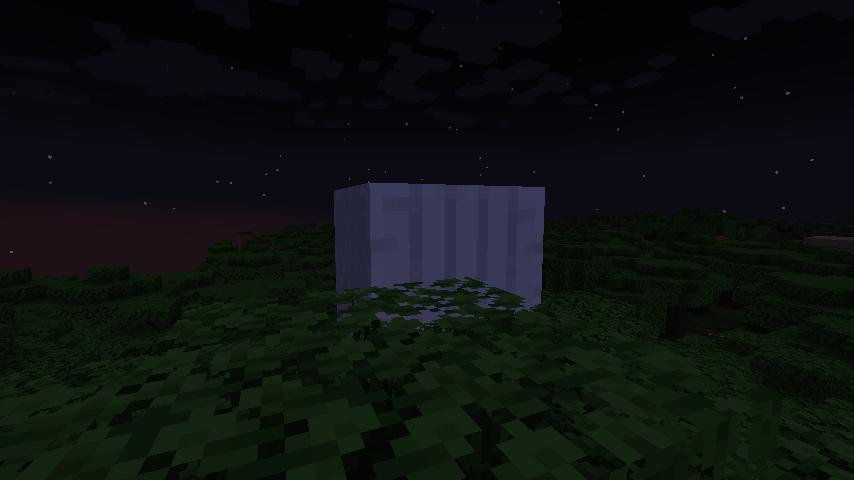ghast: (328, 179, 547, 318)
